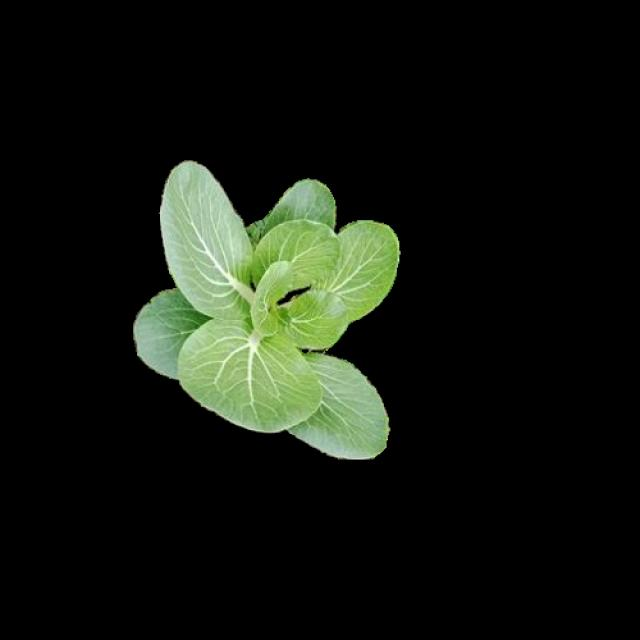healthy: (130, 159, 396, 457)
not-mature: (133, 162, 398, 460)
